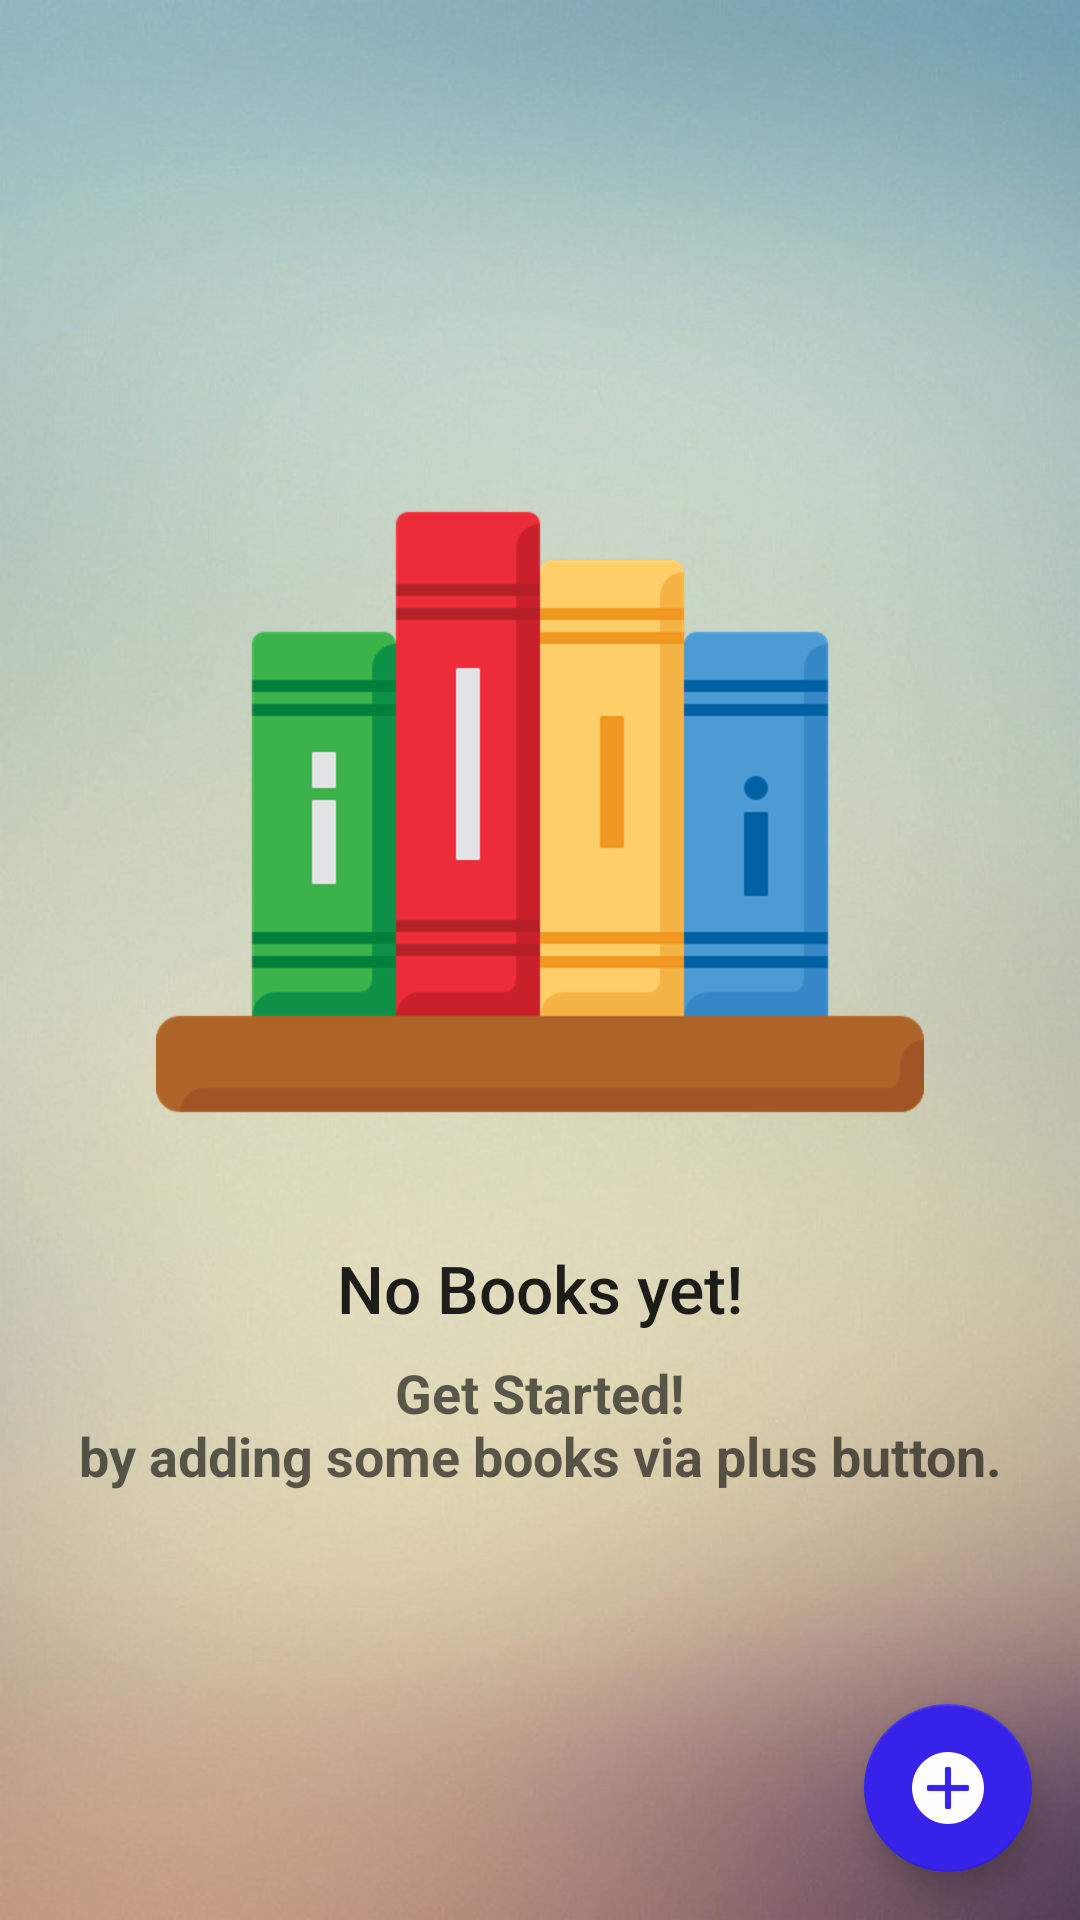

Point at icon controls on the screen. Image size 1080px×1920px, points as (x,y).
add sign: (948,1788)
